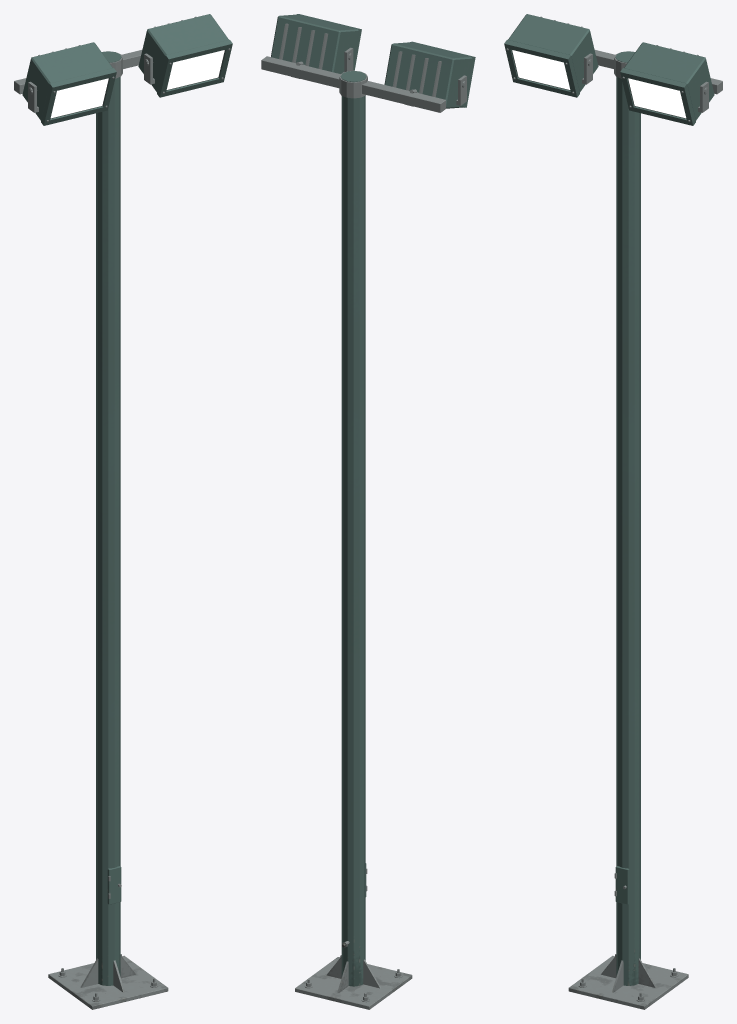
Rendered from bunker_floodlight_mast_dual.glb.
3 renders of one model, left to right at view 1: azimuth 30°, elevation 25°; view 2: azimuth 150°, elevation 25°; view 3: azimuth 330°, elevation 25°, orthographic. The views are drawn at different scales.
Visible parts, largest first — view 1: FloodlightMast; view 2: FloodlightMast; view 3: FloodlightMast.
Part boxes in pixels (x1,y1,x2,y2): FloodlightMast: (14,14,232,1009); FloodlightMast: (261,14,475,1009); FloodlightMast: (504,14,722,1009).
Size of what is drawn, in the model's own units: 1.26 by 6 by 0.6408.
2 materials, 1 textured.
